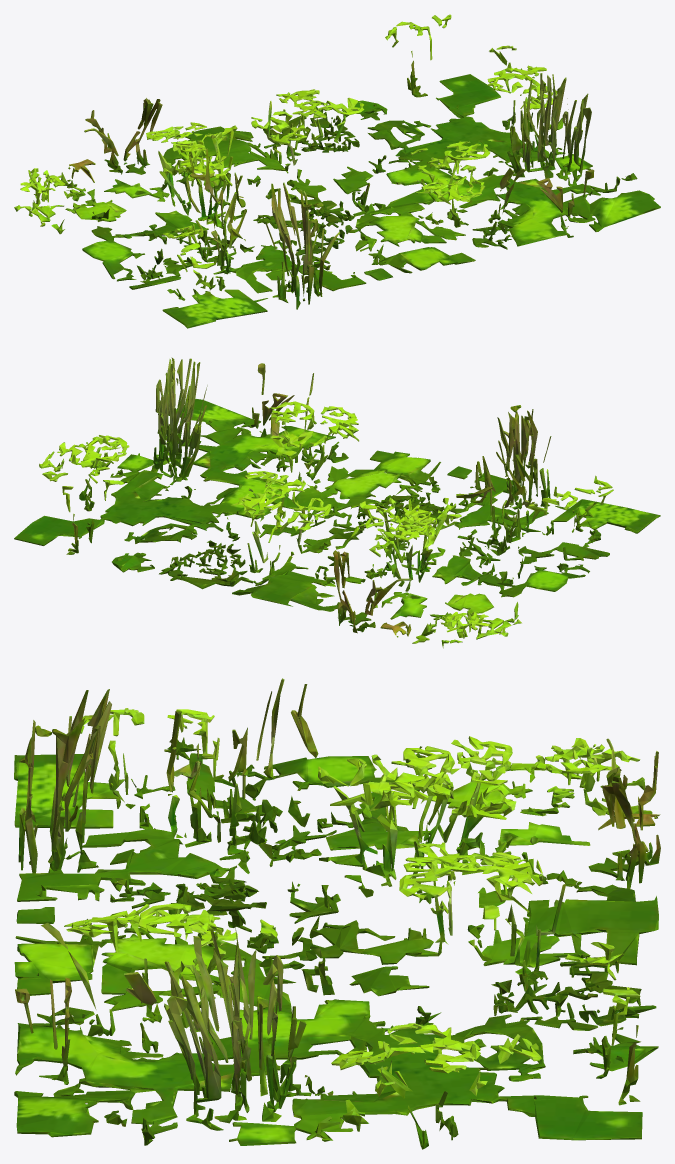
File: swamp_cattail_clump_01.glb
3 views of the same model, one above another, from view 1: azimuth 30°, elevation 25°; view 2: azimuth 150°, elevation 25°; view 3: azimuth 270°, elevation 25° (orthographic). The views are drawn at different scales.
Parts seen in each view (by area): view 1: geometry_0; view 2: geometry_0; view 3: geometry_0.
Boxes of the visible parts, x1=… form: geometry_0: x1=14, y1=14, x2=660, y2=328; geometry_0: x1=14, y1=357, x2=660, y2=648; geometry_0: x1=14, y1=678, x2=660, y2=1149.
Size of the model in its own units: 0.9981 by 0.2212 by 0.6845.
Materials: 1 (1 with a texture image).
